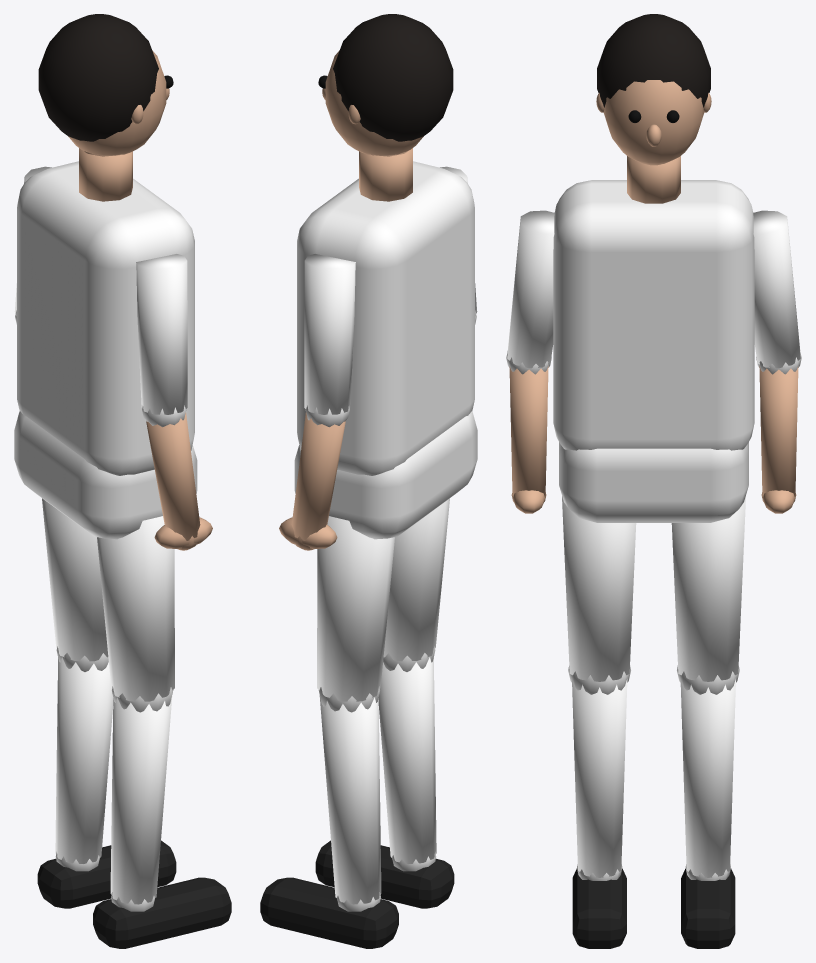
Rendered from passenger_stand.glb.
3 views of the same model, side by side, from view 1: azimuth 30°, elevation 25°; view 2: azimuth 150°, elevation 25°; view 3: azimuth 270°, elevation 25° (orthographic).
Parts seen in each view (by area): view 1: PassengerStand; view 2: PassengerStand; view 3: PassengerStand.
Part boxes in pixels (x1,y1,x2,y2): PassengerStand: (14,14,231,948); PassengerStand: (260,14,477,948); PassengerStand: (506,14,801,948).
Bounding box in the file's own units: 0.3136 × 1.81 × 0.544.
